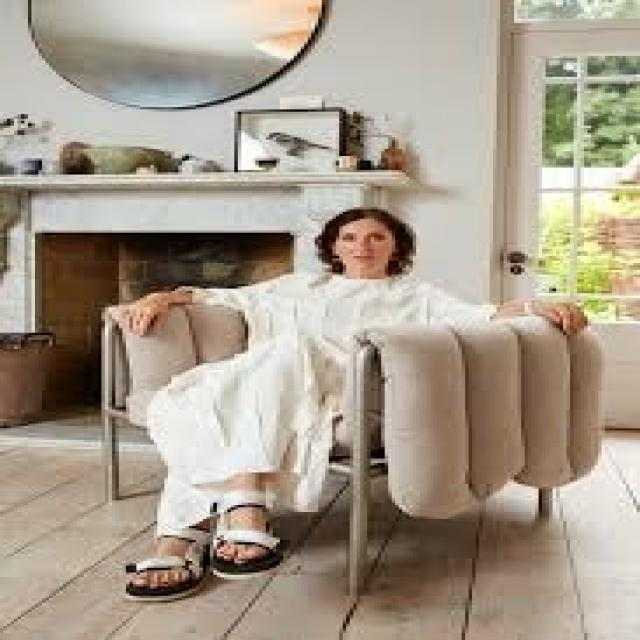sitting: (116, 198, 588, 622)
